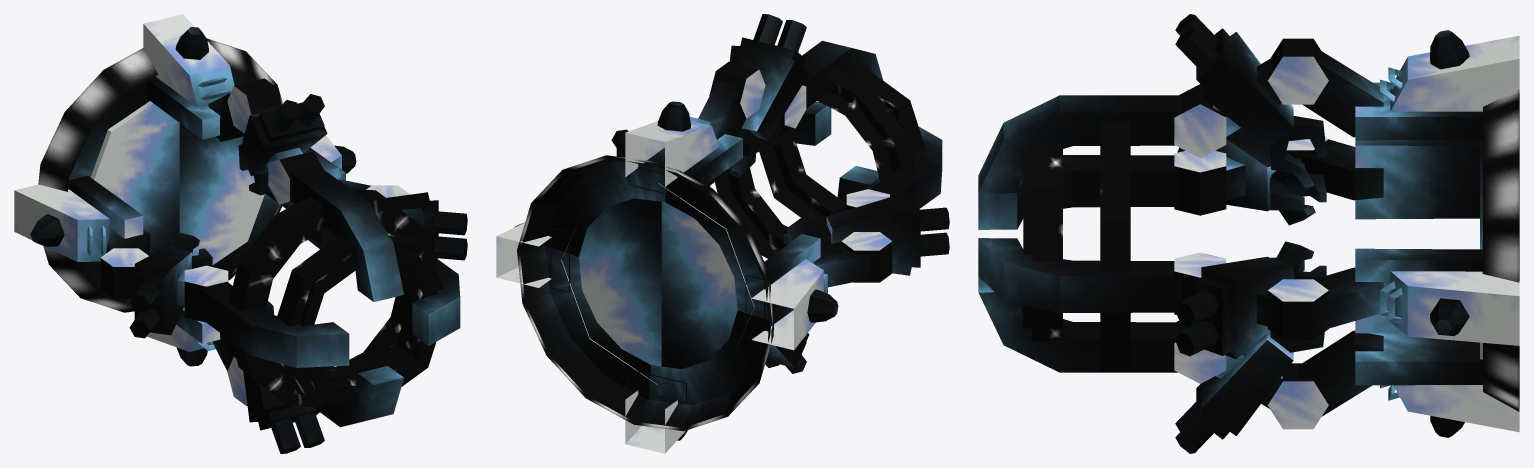
Rendered from zhanchan_fuben_367_shengchan.obj.
The picture shows the model from 3 angles, left to right: view 1: azimuth 30°, elevation 25°; view 2: azimuth 150°, elevation 25°; view 3: azimuth 270°, elevation 25°; orthographic projection. The views are drawn at different scales.
Parts seen in each view (by area): view 1: zhanchan_fuben_367_shengchan, Object01; view 2: zhanchan_fuben_367_shengchan, Object01; view 3: zhanchan_fuben_367_shengchan, Object01.
Boxes of the visible parts, x1,y1,x2,y2 form: zhanchan_fuben_367_shengchan: (14, 14, 467, 453); Object01: (38, 38, 282, 312); zhanchan_fuben_367_shengchan: (496, 14, 949, 453); Object01: (517, 155, 774, 431); zhanchan_fuben_367_shengchan: (978, 14, 1519, 453); Object01: (1482, 89, 1519, 411).
Bounding box in the file's own units: 683 × 683 × 789.
Materials: 3 (3 with a texture image).
